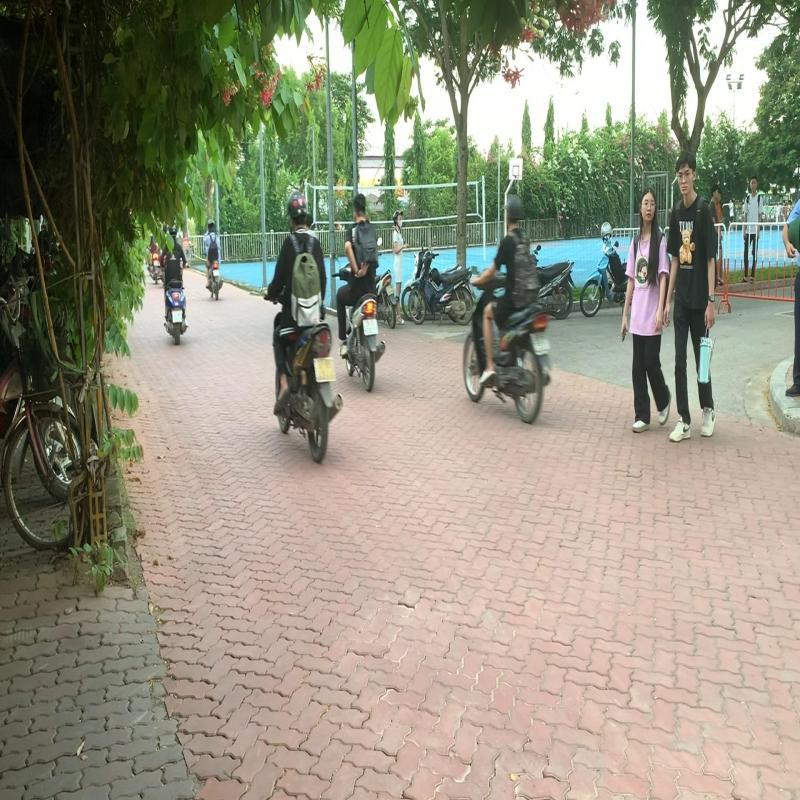nohelmet: (350, 192, 368, 222)
